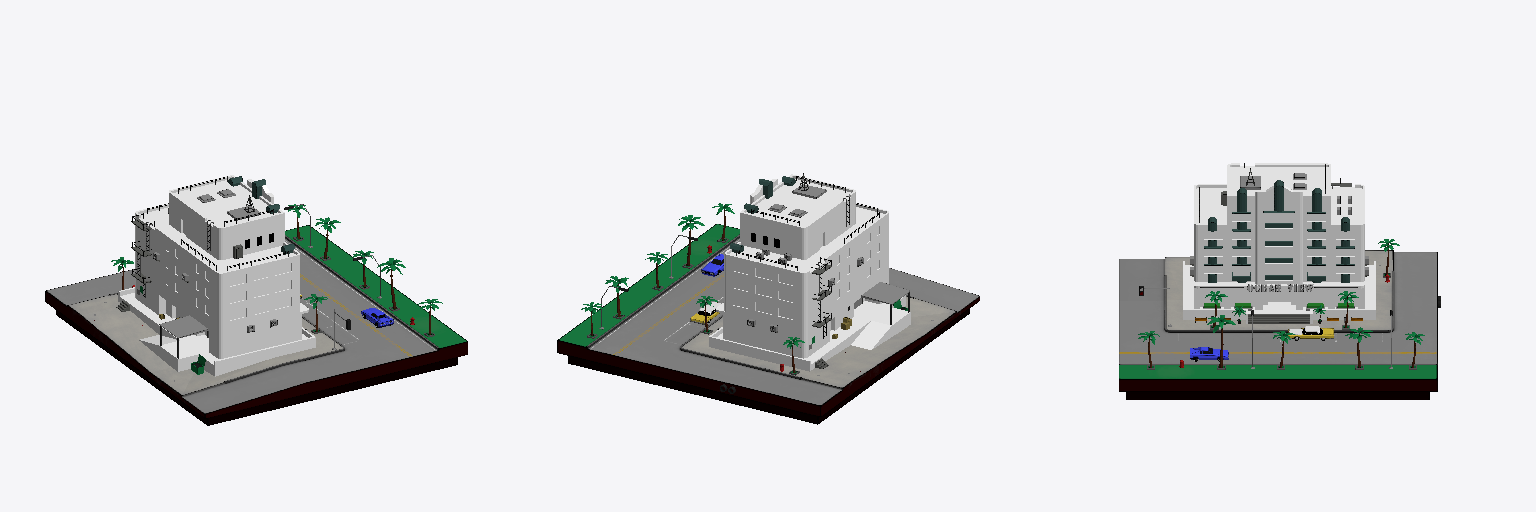
The picture shows the model from 3 angles: view 1: azimuth 30°, elevation 25°; view 2: azimuth 150°, elevation 25°; view 3: azimuth 270°, elevation 25°; orthographic projection.
Visible parts, largest first — view 1: obj179, obj2, obj1, obj180, obj115; view 2: obj179, obj2, obj1, obj180, obj115; view 3: obj179, obj2, obj1, obj180, obj117.
Part boxes in pixels (left/top/right/bottom): obj179: left=45, top=225, right=467, bottom=425; obj2: left=135, top=175, right=308, bottom=358; obj1: left=118, top=287, right=315, bottom=376; obj180: left=109, top=235, right=438, bottom=383; obj115: left=159, top=315, right=208, bottom=358; obj179: left=557, top=224, right=979, bottom=424; obj2: left=716, top=174, right=888, bottom=358; obj1: left=709, top=295, right=910, bottom=371; obj180: left=586, top=234, right=913, bottom=379; obj115: left=861, top=282, right=909, bottom=324; obj179: left=1119, top=250, right=1437, bottom=399; obj2: left=1194, top=163, right=1364, bottom=309; obj1: left=1183, top=261, right=1375, bottom=323; obj180: left=1119, top=271, right=1436, bottom=364; obj117: left=1248, top=314, right=1309, bottom=323.
Bounding box in the file's own units: 61.87 × 37.37 × 65.63.
Materials: 7 (5 with a texture image).